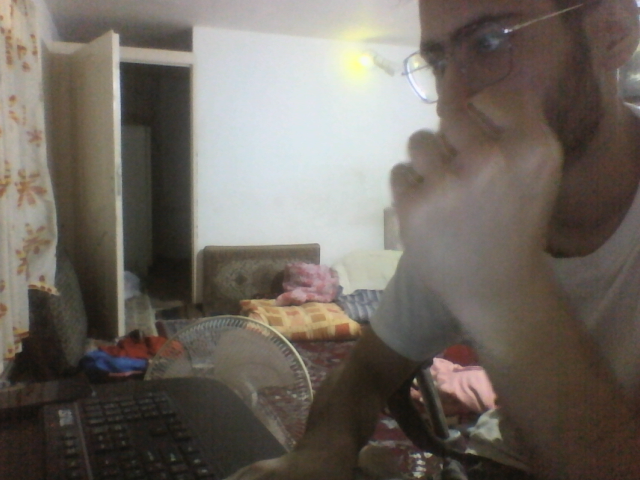attack: (347, 60, 618, 328)
